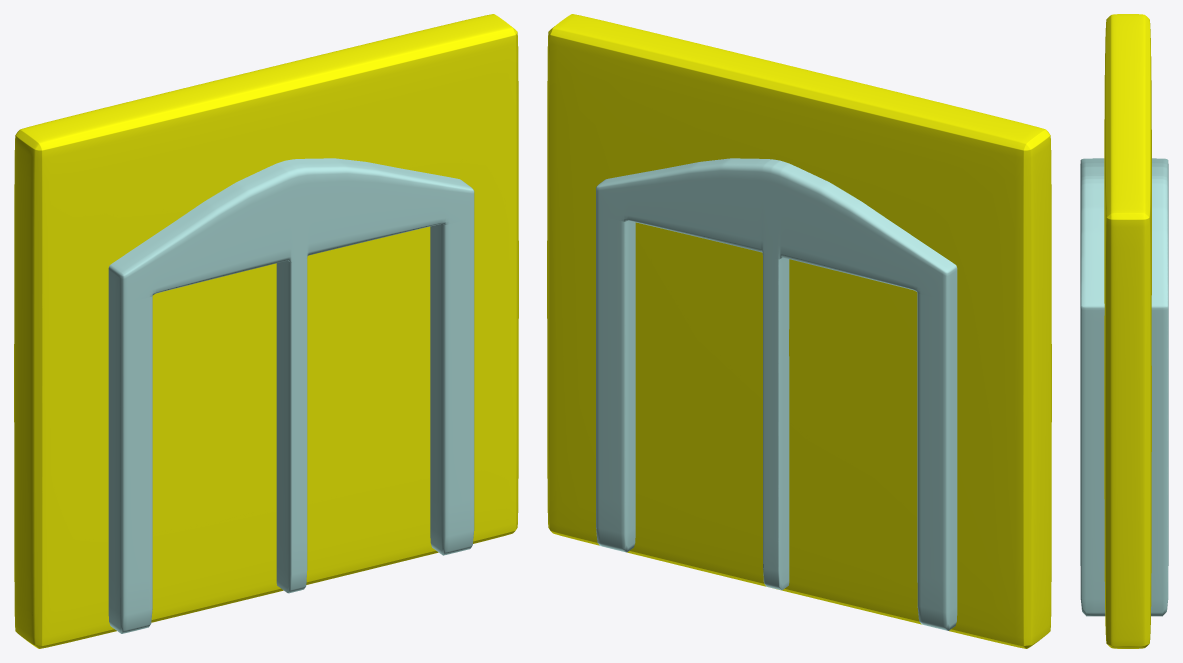
3 renders of one model, left to right at view 1: azimuth 30°, elevation 25°; view 2: azimuth 150°, elevation 25°; view 3: azimuth 270°, elevation 25°, orthographic. The views are drawn at different scales.
Visible parts, largest first — view 1: polySurface1419; view 2: polySurface1419; view 3: polySurface1419.
Boxes of the visible parts, bbox=[...] form: polySurface1419: bbox=[14, 14, 518, 648]; polySurface1419: bbox=[547, 14, 1051, 648]; polySurface1419: bbox=[1080, 14, 1168, 648].
Bounding box in the file's own units: 0.9995 × 0.9995 × 0.182.
